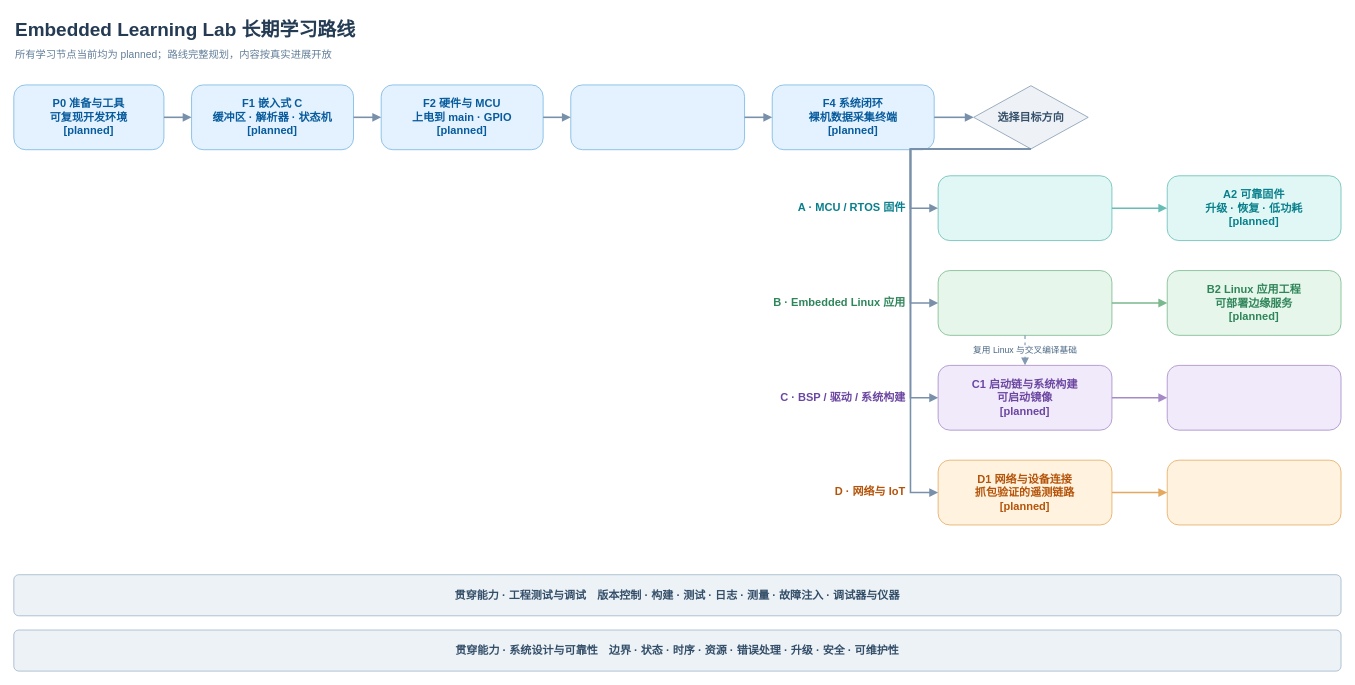
The diagram is 1355 pixels wide and 685 high, and some of its shapes have lost their labels. The shapes that lost their labels are listed below. From the top down, each one's box as (x1, y1, x2, y2) in pixels, then its label:
(570, 84, 745, 150): F3 外设与通信 UART / I²C / SPI · 调试证据 [planned]
(937, 175, 1112, 241): A1 RTOS 并发基础 RTOS 重构 [planned]
(937, 270, 1112, 335): B1 Linux 系统编程 串口网关 [planned]
(1166, 365, 1341, 430): C2 BSP 与 Linux 驱动 驱动 + 用户态验证 [planned]
(1166, 459, 1341, 525): D2 IoT 系统工程 安全可升级闭环 [planned]
